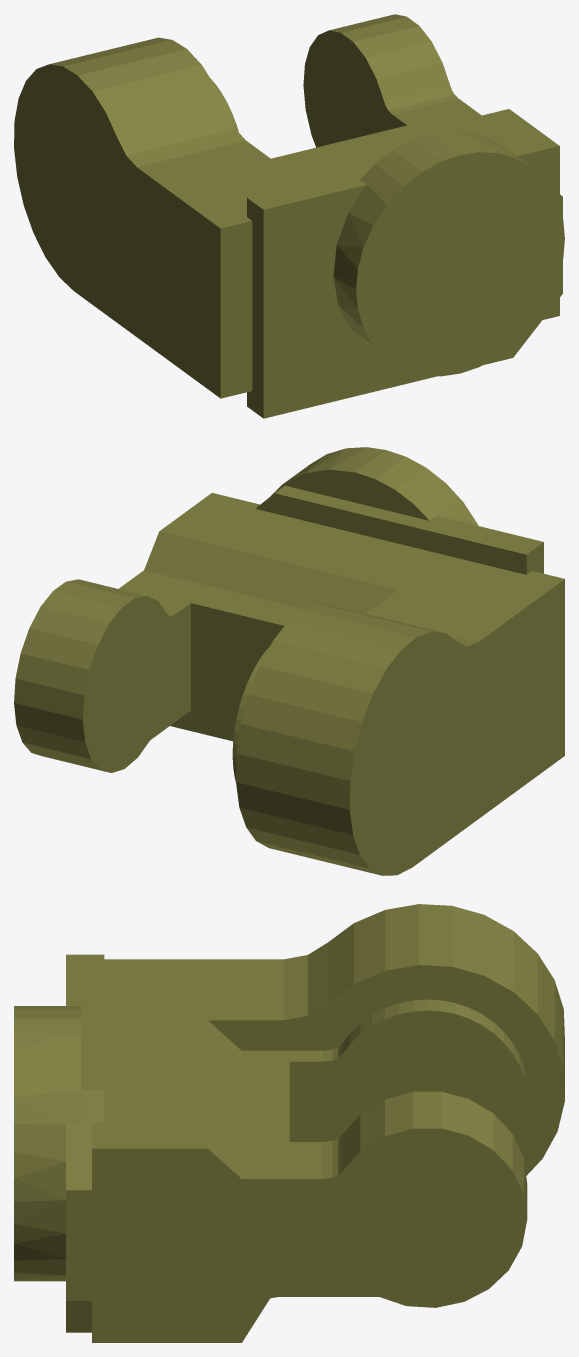
The model's file is LLEG_LINK0_mesh.dae.
3 views of the same model, one above another, from view 1: azimuth 30°, elevation 25°; view 2: azimuth 150°, elevation 25°; view 3: azimuth 270°, elevation 25° (orthographic). The views are drawn at different scales.
Visible parts, largest first — view 1: LLEG_LINK0; view 2: LLEG_LINK0; view 3: LLEG_LINK0.
Part boxes in pixels (box(x1,y1,x2,y2)): LLEG_LINK0: box(14, 14, 564, 418); LLEG_LINK0: box(14, 447, 564, 875); LLEG_LINK0: box(14, 904, 564, 1342).
Size of the model in its own units: 0.1461 by 0.098 by 0.1798.
